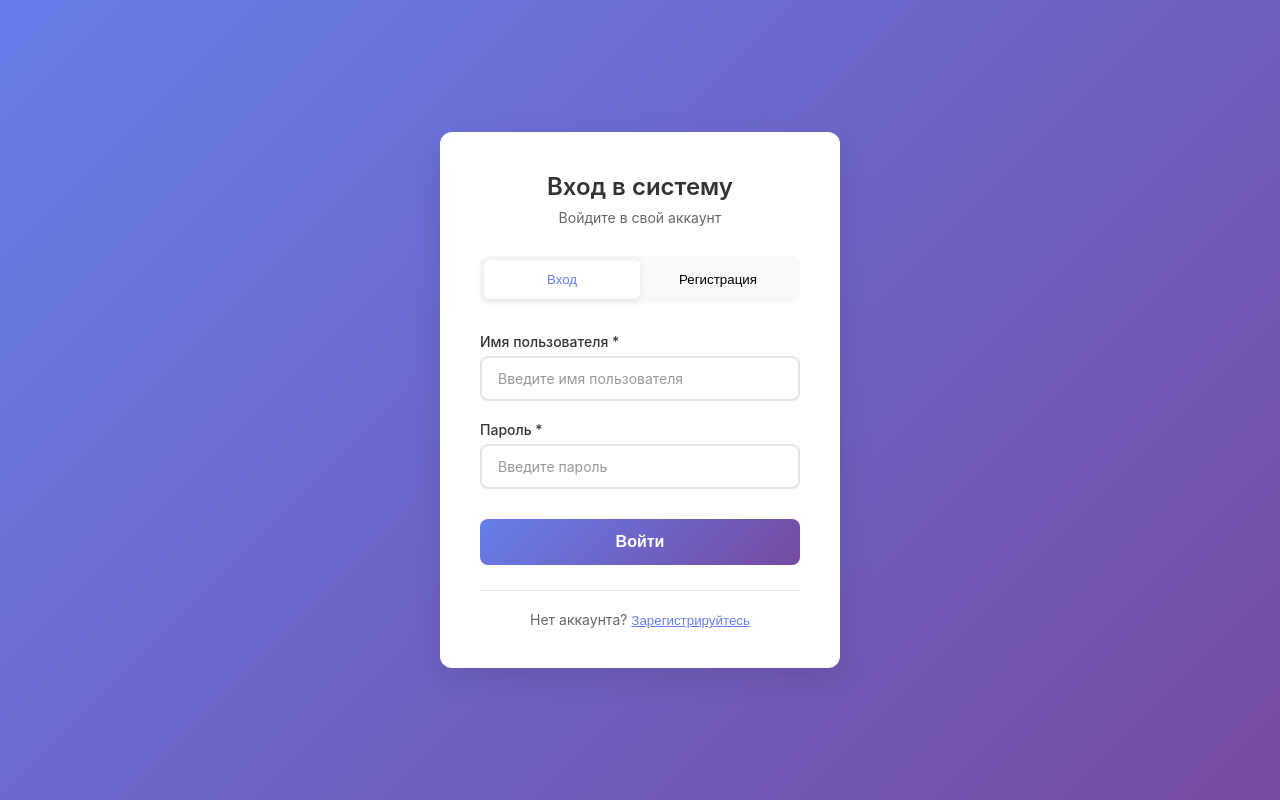
Test: Login Flow (3.2) › ошибка входа: показывается сообщение об ошибке
Type "wronguser" into the field labelled "Имя пользователя *" at [640, 378], box [480,356,800,401]
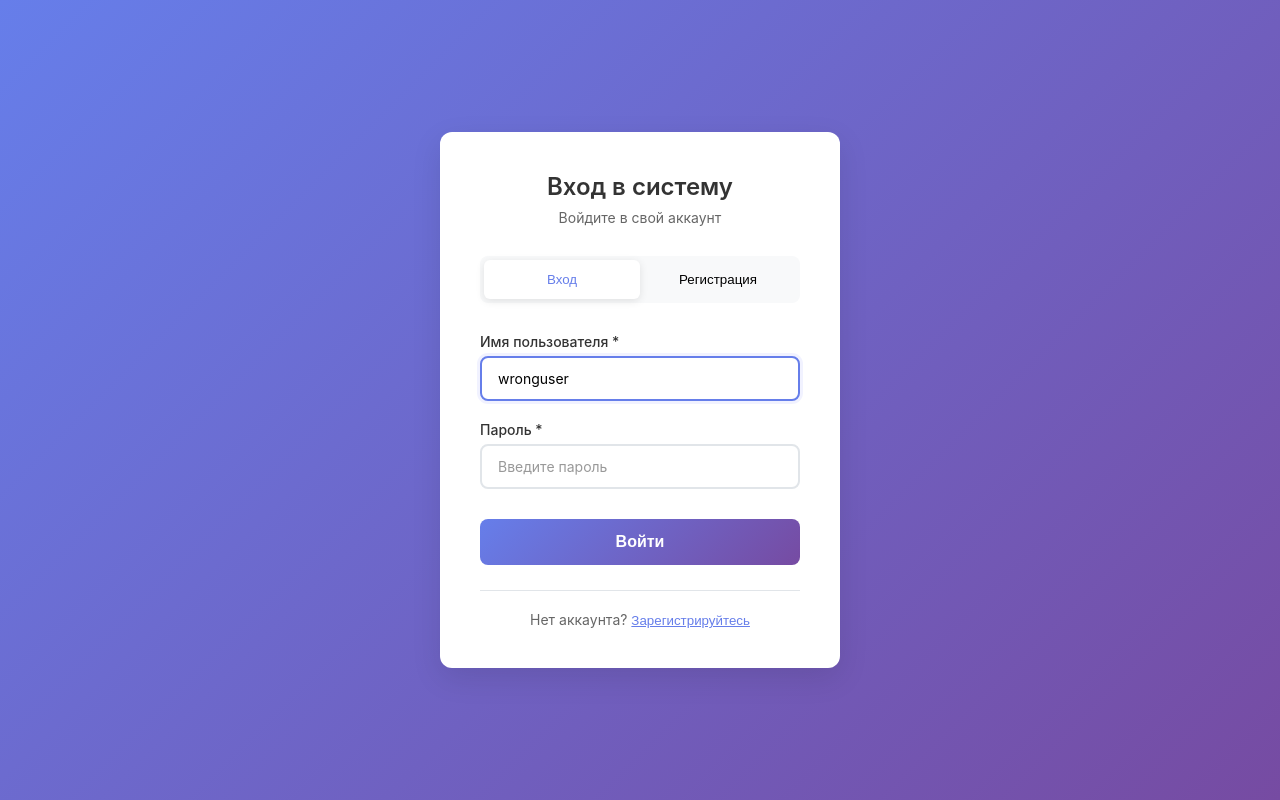
Type "wrongpass" into the password field labelled "Пароль *" at [640, 466], box [480,444,800,489]
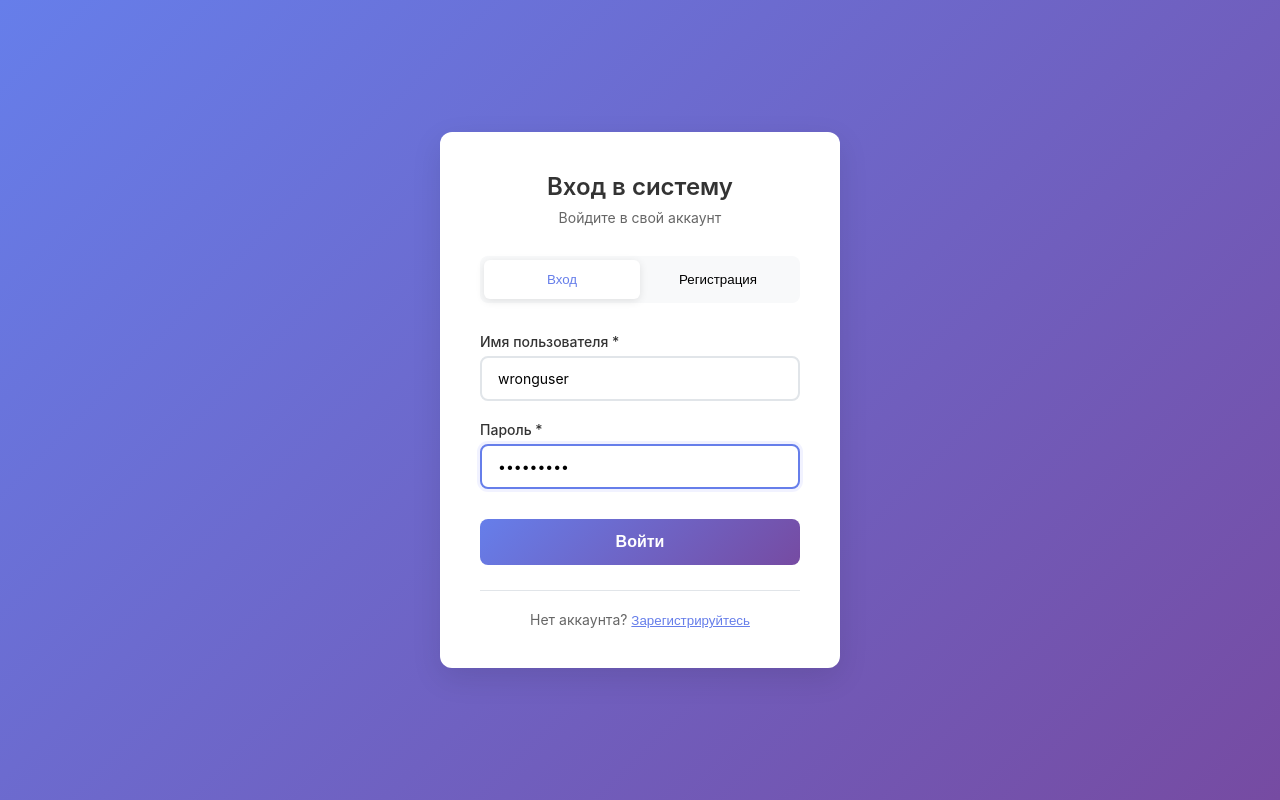
Click the button "Войти" at [640, 542], box [480,519,800,565]
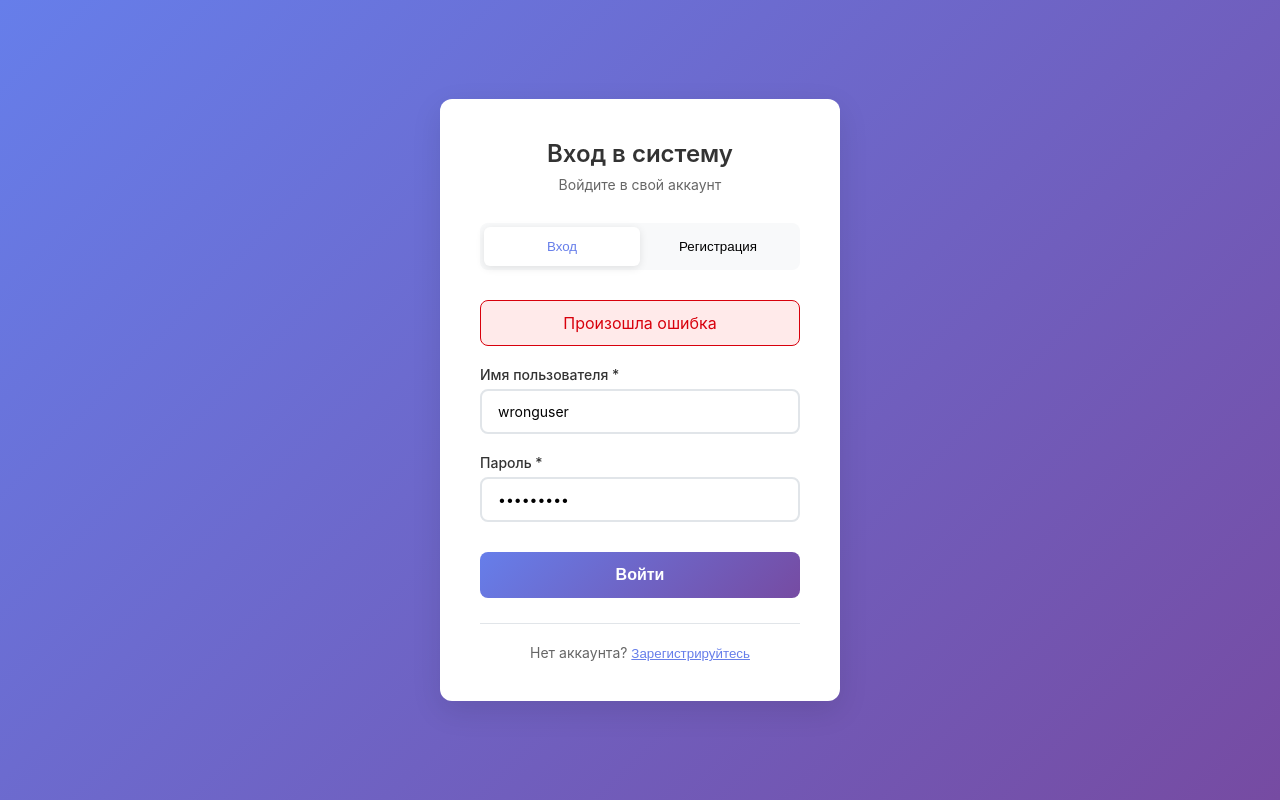
Now the text "Произошла ошибка" is shown, box [480,300,800,346]
